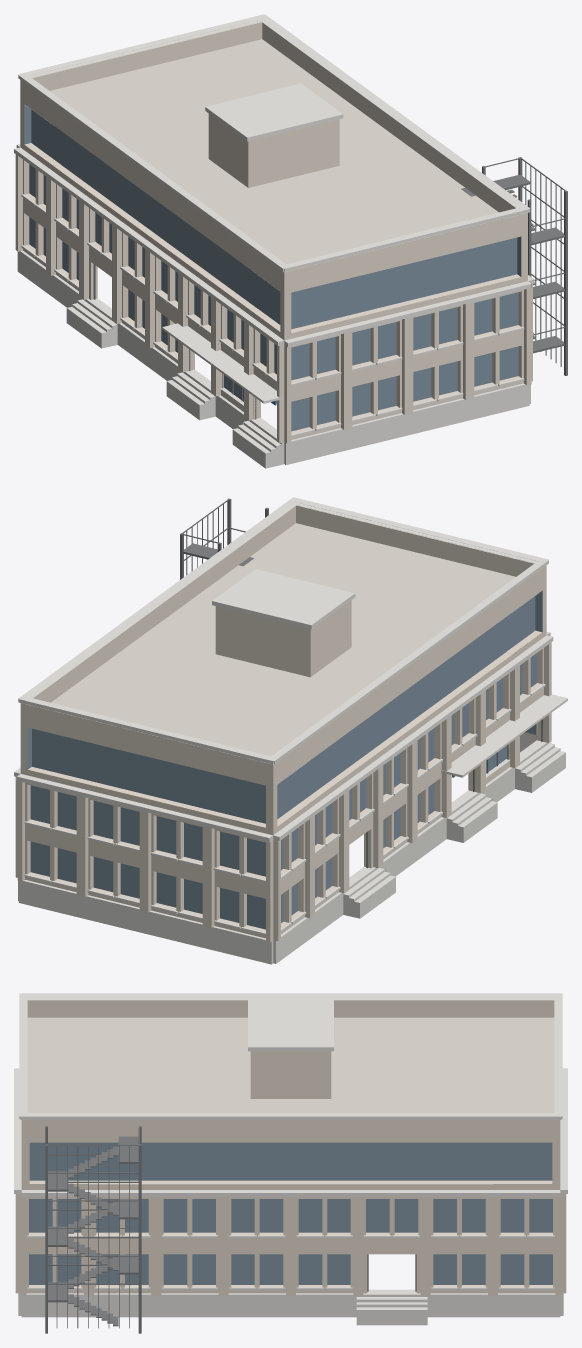
The model's file is Shopping_Medical_1_ATM.fbx.
3 renders of one model, top to bottom at view 1: azimuth 30°, elevation 25°; view 2: azimuth 150°, elevation 25°; view 3: azimuth 270°, elevation 25°, orthographic. The views are drawn at different scales.
Visible parts, largest first — view 1: Shopping_Medical_1_ATM; view 2: Shopping_Medical_1_ATM; view 3: Shopping_Medical_1_ATM.
Part boxes in pixels (bbox=[...]): Shopping_Medical_1_ATM: bbox=[14, 14, 567, 468]; Shopping_Medical_1_ATM: bbox=[14, 497, 567, 964]; Shopping_Medical_1_ATM: bbox=[14, 993, 567, 1333].
Bounding box in the file's own units: 20.73 × 14.25 × 30.84.
